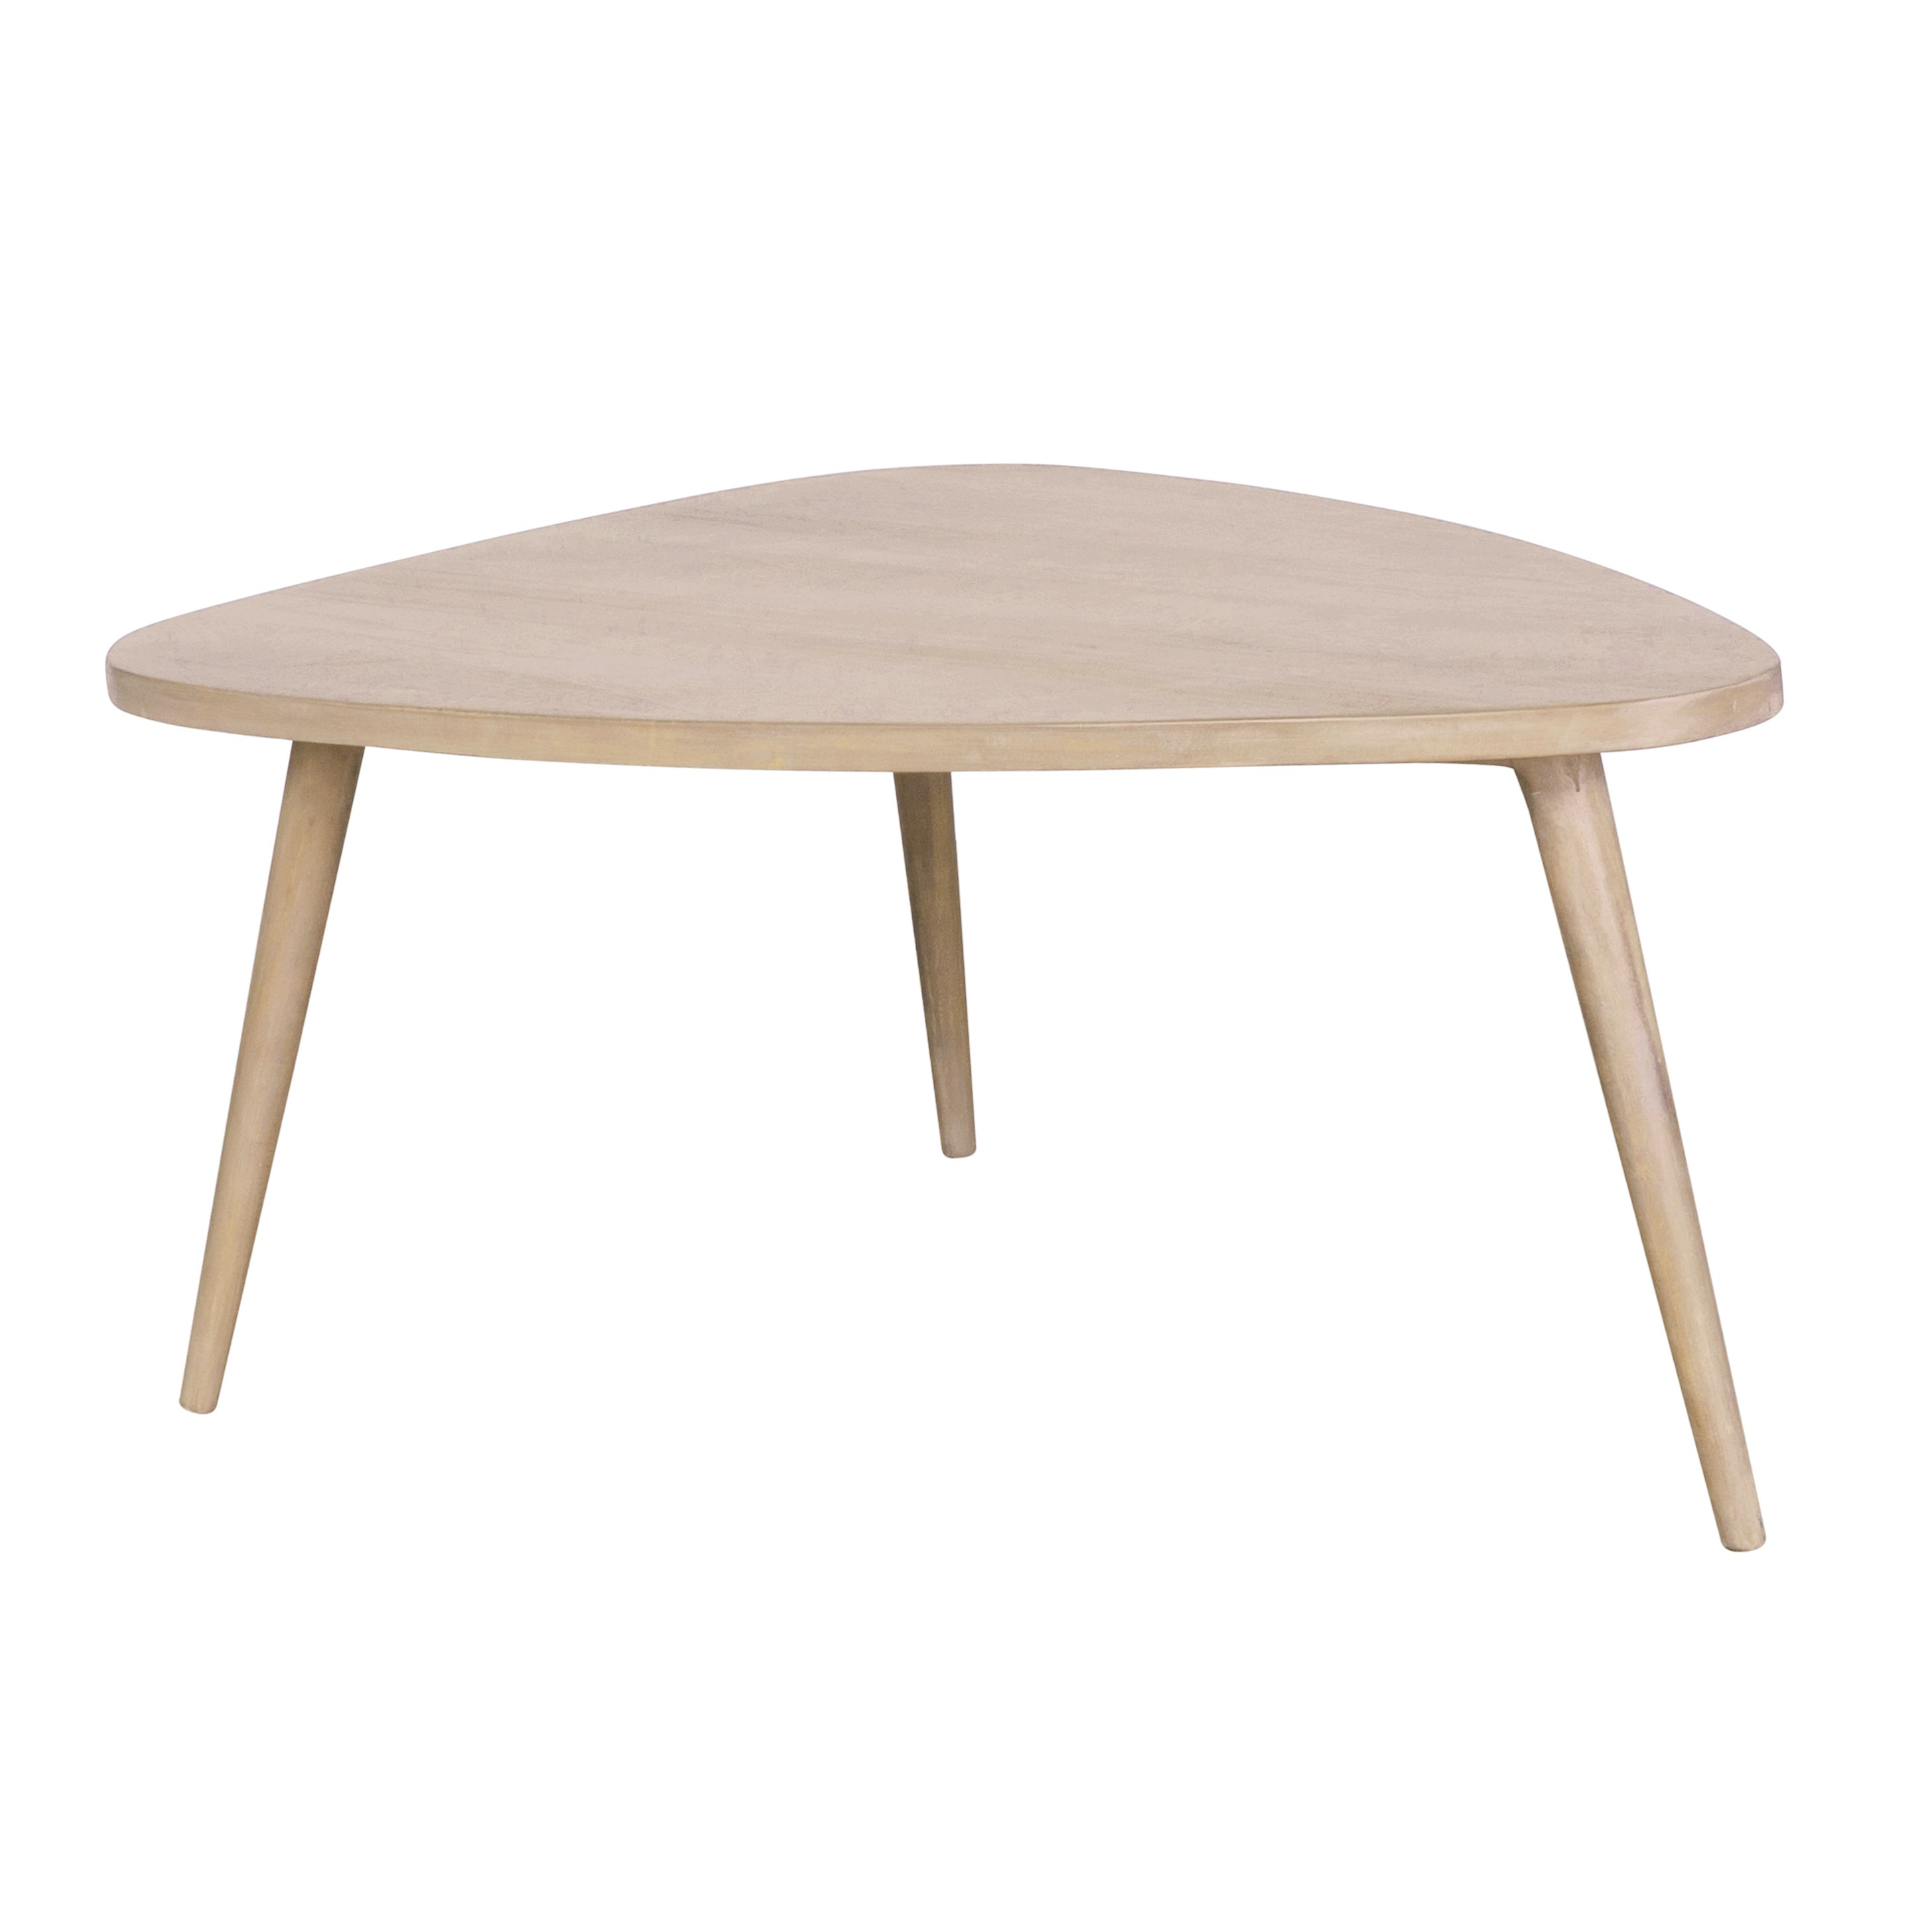Carving Table: (119, 441, 1813, 1575)
